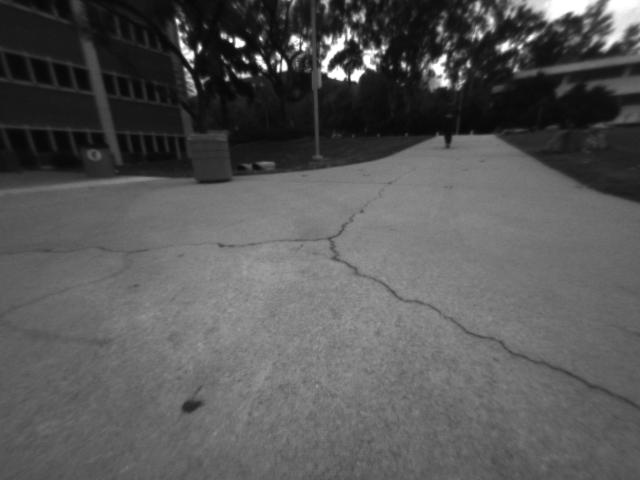trashcan: (184, 131, 234, 186), (76, 141, 113, 184)
